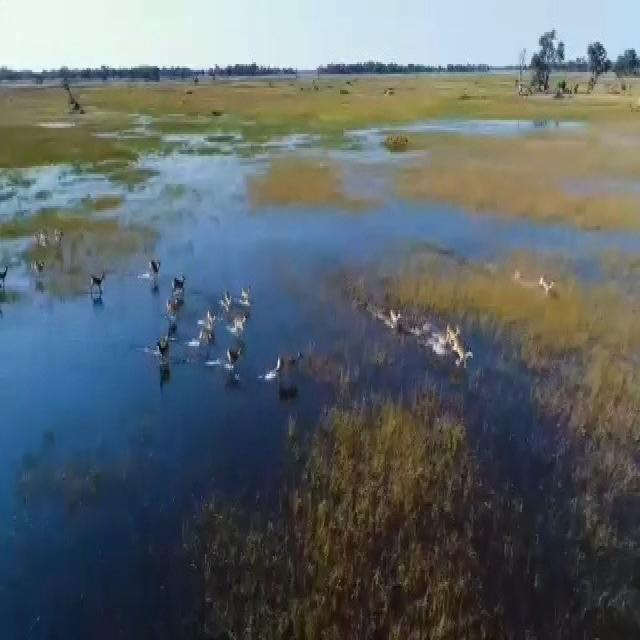Deer: (441, 322, 473, 372), (268, 352, 294, 409), (378, 302, 406, 341), (154, 333, 177, 375), (539, 267, 558, 312), (205, 302, 220, 354), (91, 273, 111, 302), (146, 252, 164, 282), (164, 298, 188, 318), (1, 264, 15, 297), (231, 313, 254, 332), (36, 257, 50, 286), (221, 284, 234, 315), (173, 271, 186, 295), (239, 286, 255, 303), (35, 224, 46, 247), (53, 228, 66, 246)
